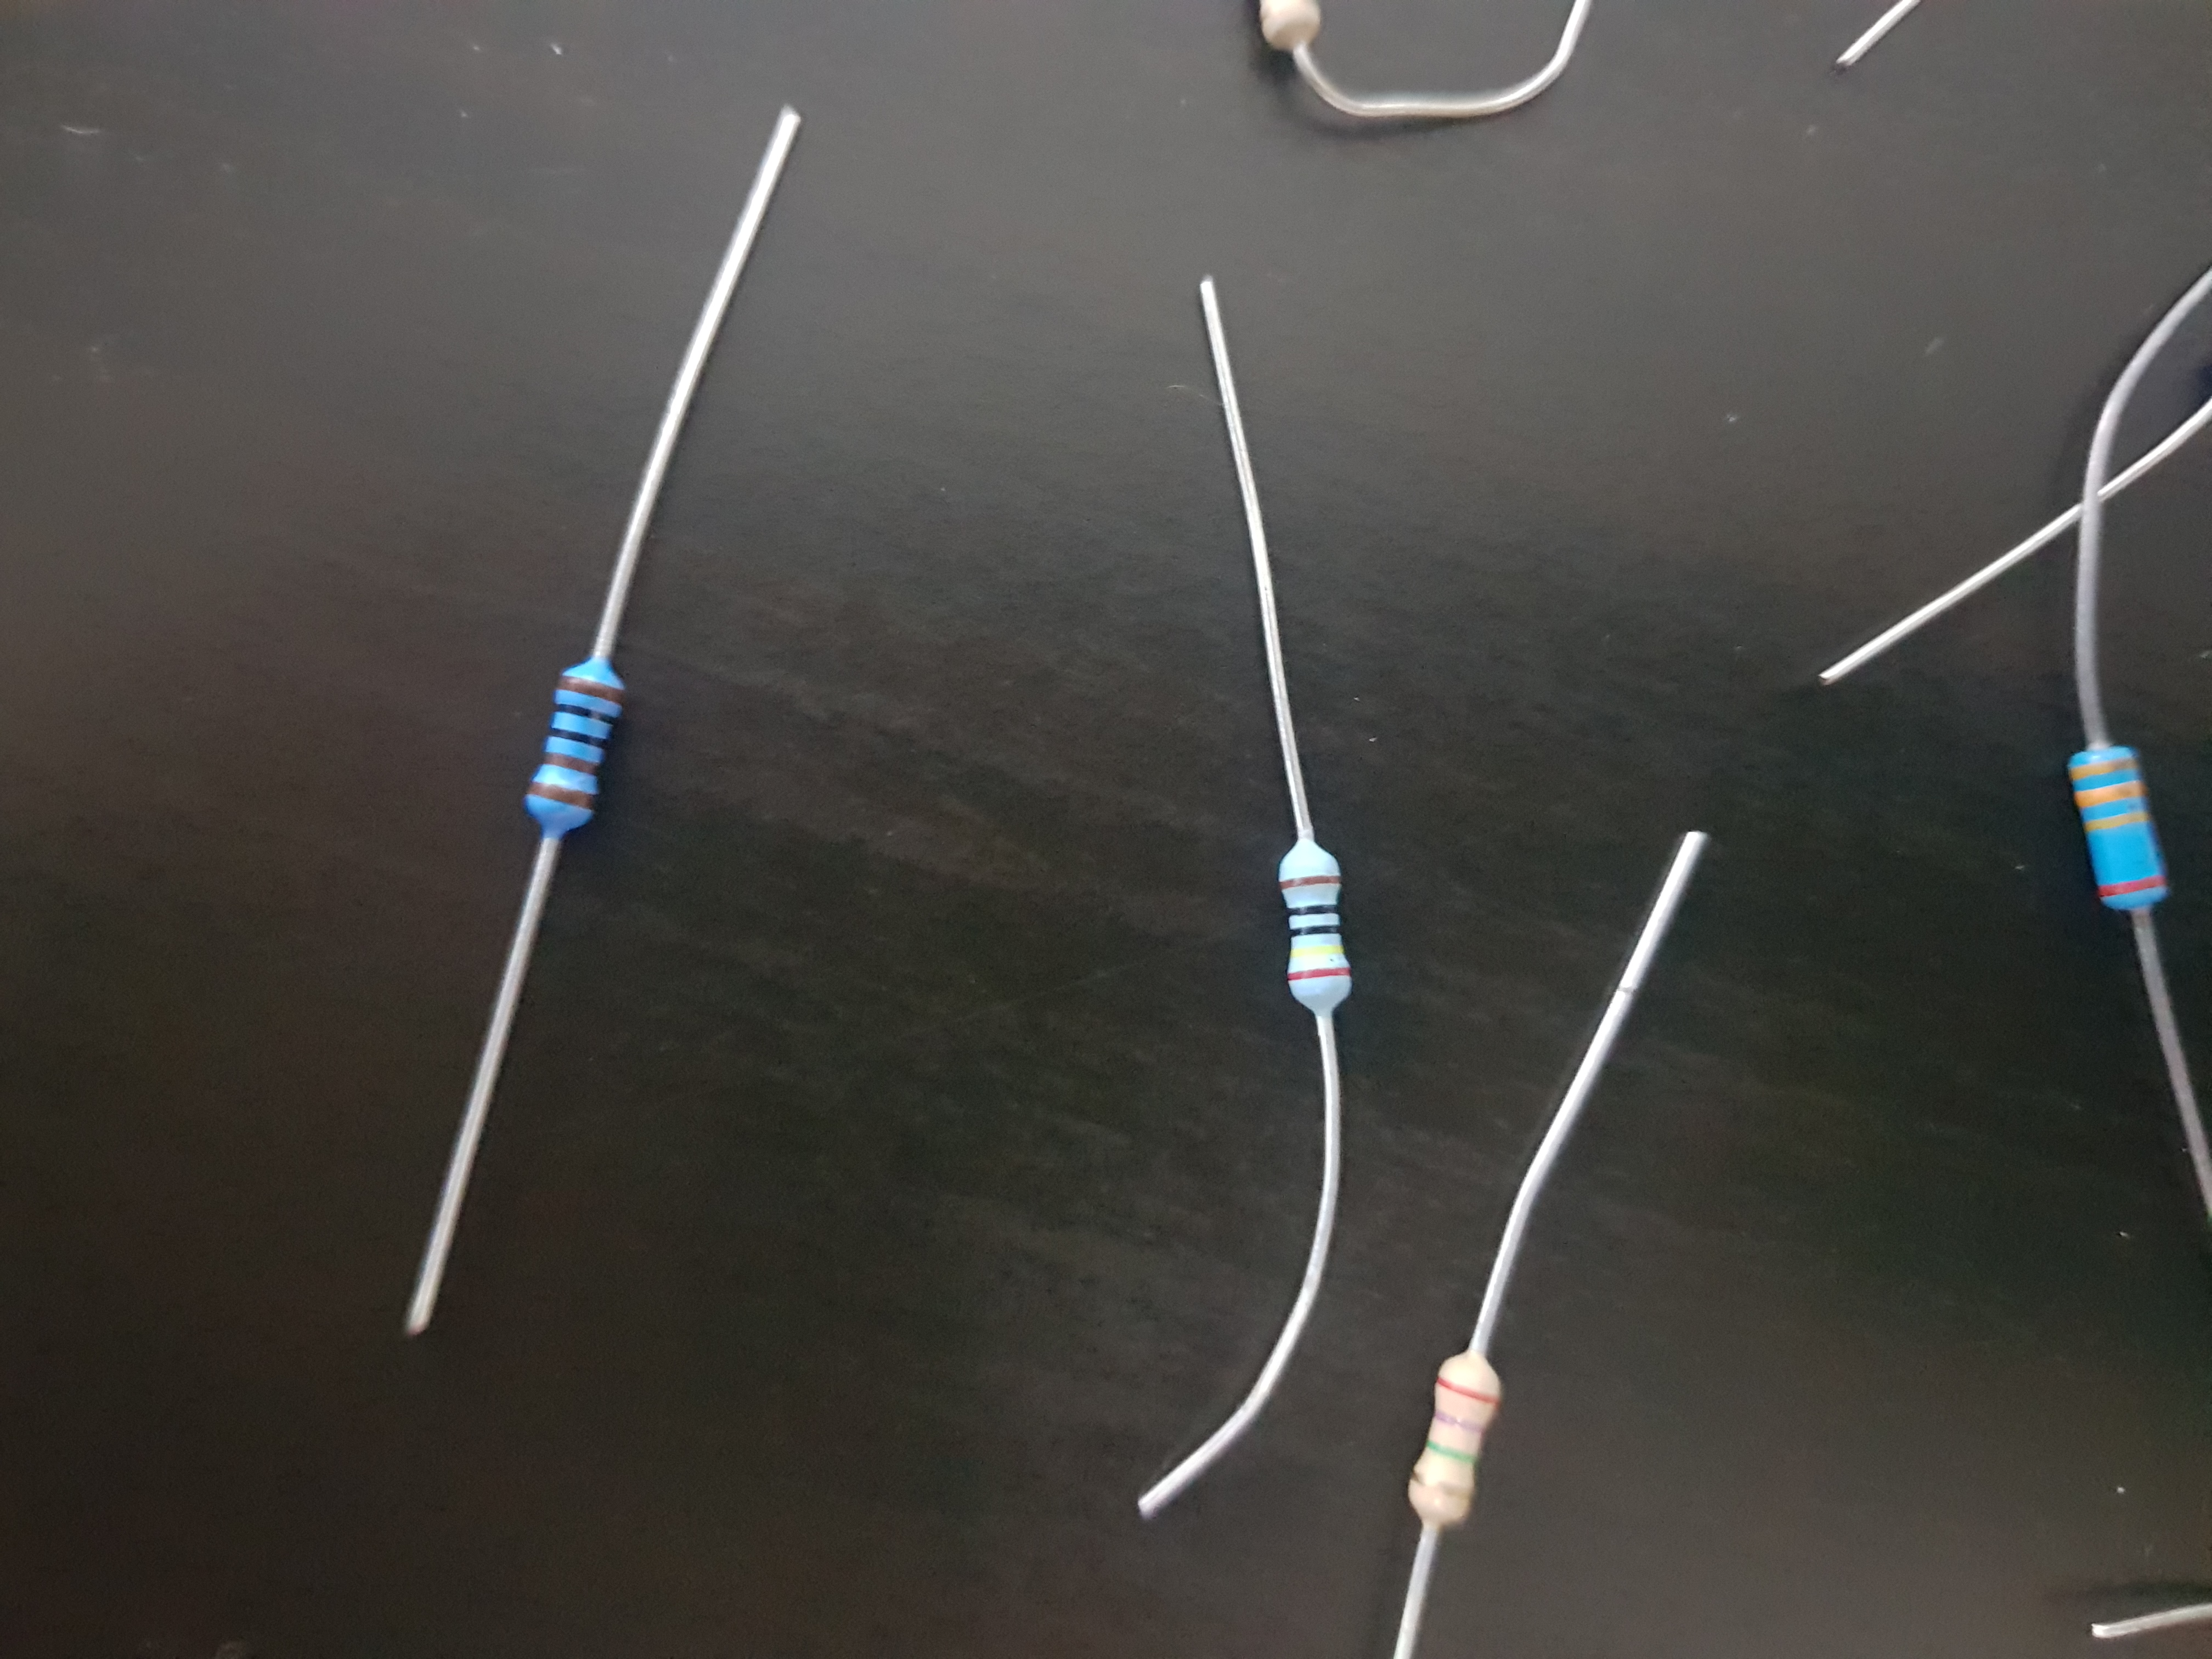resistor: (364, 601, 711, 938), (1961, 674, 2212, 995), (1348, 1267, 1595, 1591), (1160, 802, 1402, 1112)
